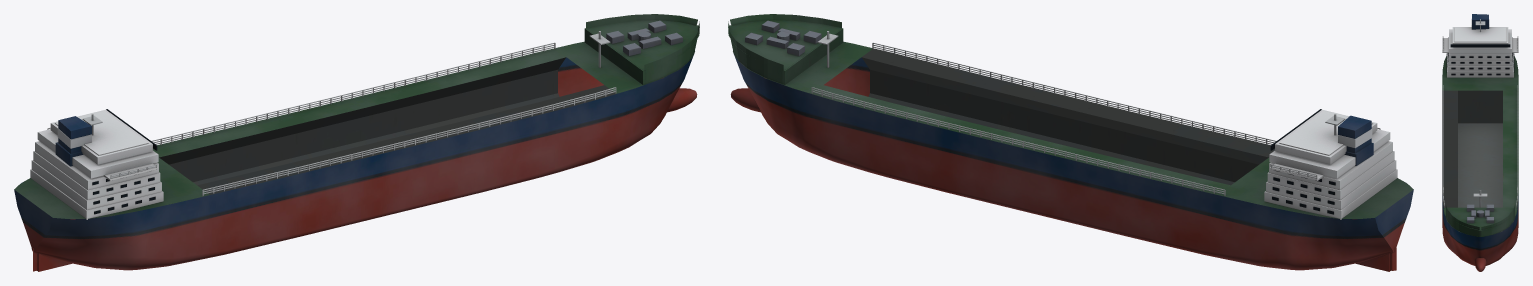
File: hull-bulker.glb
The picture shows the model from 3 angles, left to right: view 1: azimuth 30°, elevation 25°; view 2: azimuth 150°, elevation 25°; view 3: azimuth 270°, elevation 25°; orthographic projection. The views are drawn at different scales.
Visible parts, largest first — view 1: hull, superstructure; view 2: hull, superstructure; view 3: hull, superstructure.
Part boxes in pixels (bbox=[...]): hull: bbox=[14, 14, 699, 271]; superstructure: bbox=[30, 109, 163, 219]; hull: bbox=[728, 14, 1413, 271]; superstructure: bbox=[1264, 109, 1397, 219]; hull: bbox=[1442, 14, 1518, 271]; superstructure: bbox=[1442, 27, 1518, 77].
Size of the model in its own units: 10.15 by 2.09 by 1.7.
2 materials, 2 textured.
